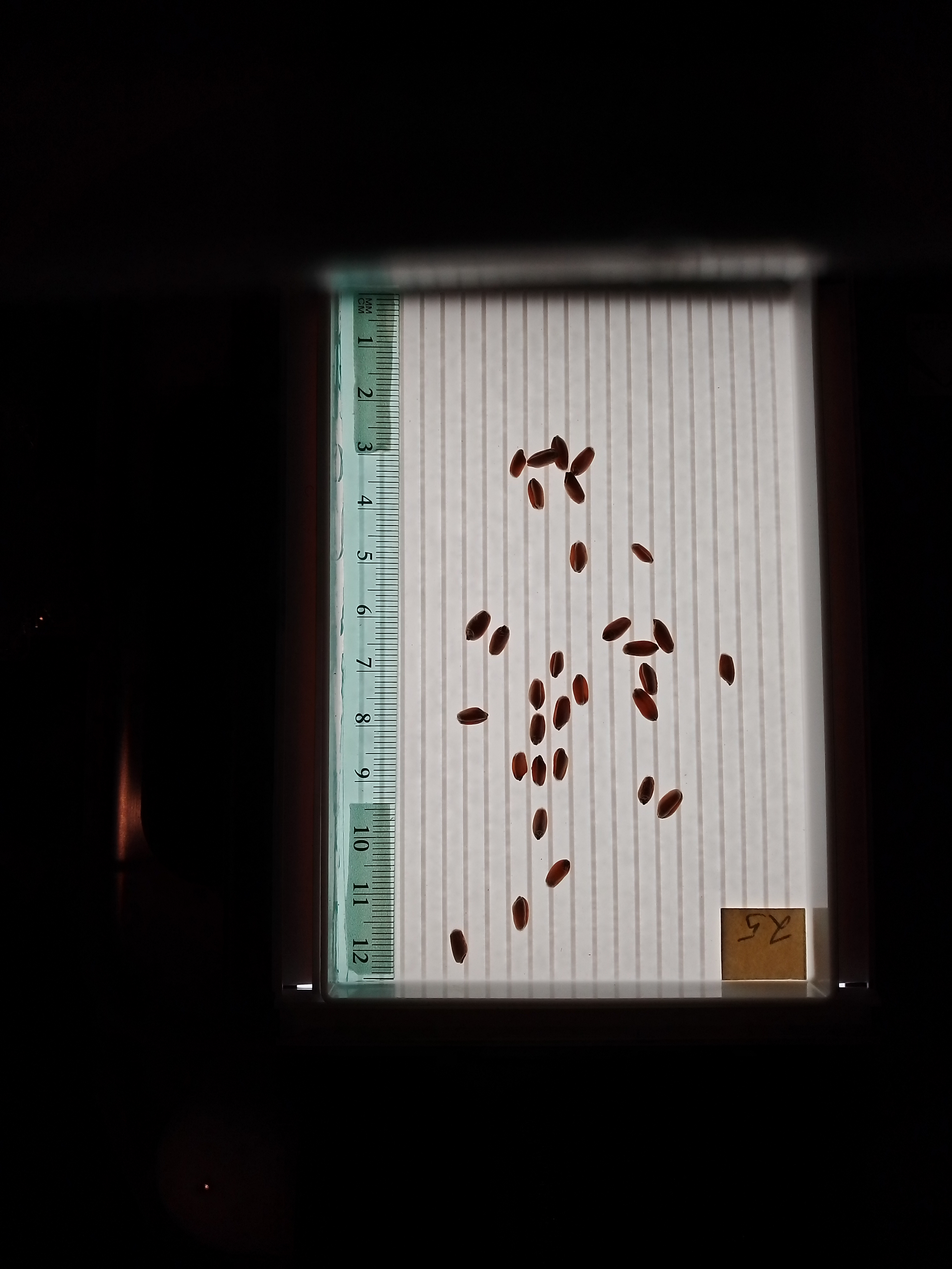seed mask: (633, 689, 657, 721), (571, 447, 594, 477), (565, 470, 585, 504), (466, 612, 490, 640), (603, 617, 631, 641), (528, 446, 558, 468), (654, 620, 674, 653), (546, 860, 570, 887), (658, 791, 682, 818), (450, 930, 468, 963), (569, 542, 588, 573), (552, 437, 569, 471), (553, 697, 571, 729), (624, 640, 656, 657), (512, 898, 529, 930), (490, 626, 509, 654), (528, 479, 545, 510), (458, 707, 487, 725), (640, 664, 657, 694), (572, 675, 589, 705), (719, 655, 735, 684), (529, 680, 545, 709), (509, 450, 526, 477), (553, 750, 568, 780), (530, 715, 545, 744), (532, 757, 547, 786), (532, 809, 547, 838), (512, 753, 528, 780), (632, 544, 653, 564), (639, 777, 654, 804), (551, 652, 564, 677)
